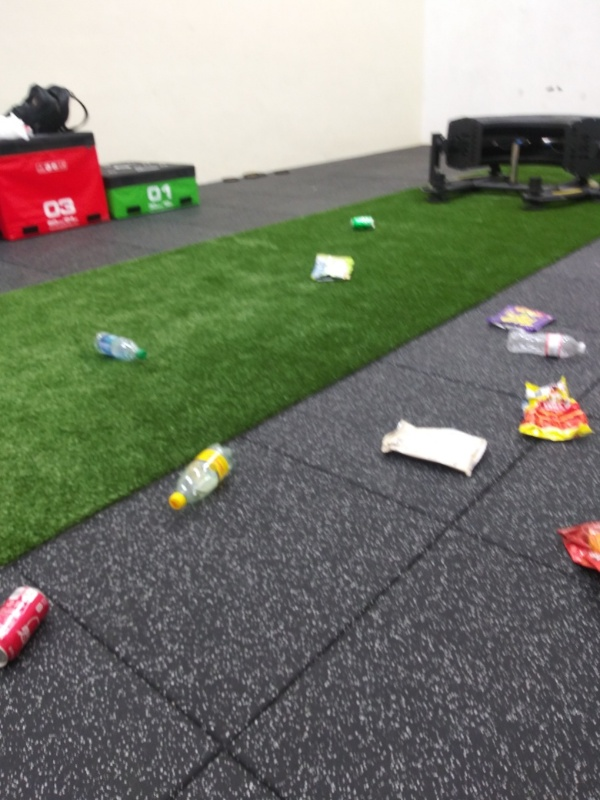bag: (375, 416, 495, 481), (515, 375, 596, 447), (553, 515, 600, 579), (486, 301, 562, 335), (304, 249, 361, 285)
bottle: (164, 439, 243, 512), (500, 325, 592, 365), (90, 329, 149, 365)
can: (1, 582, 53, 674), (346, 210, 380, 234)
